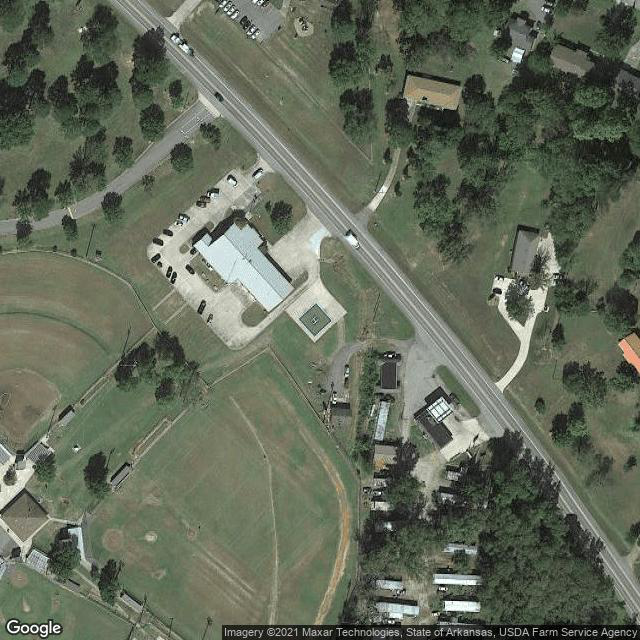Helipad: (299, 302, 332, 338)
